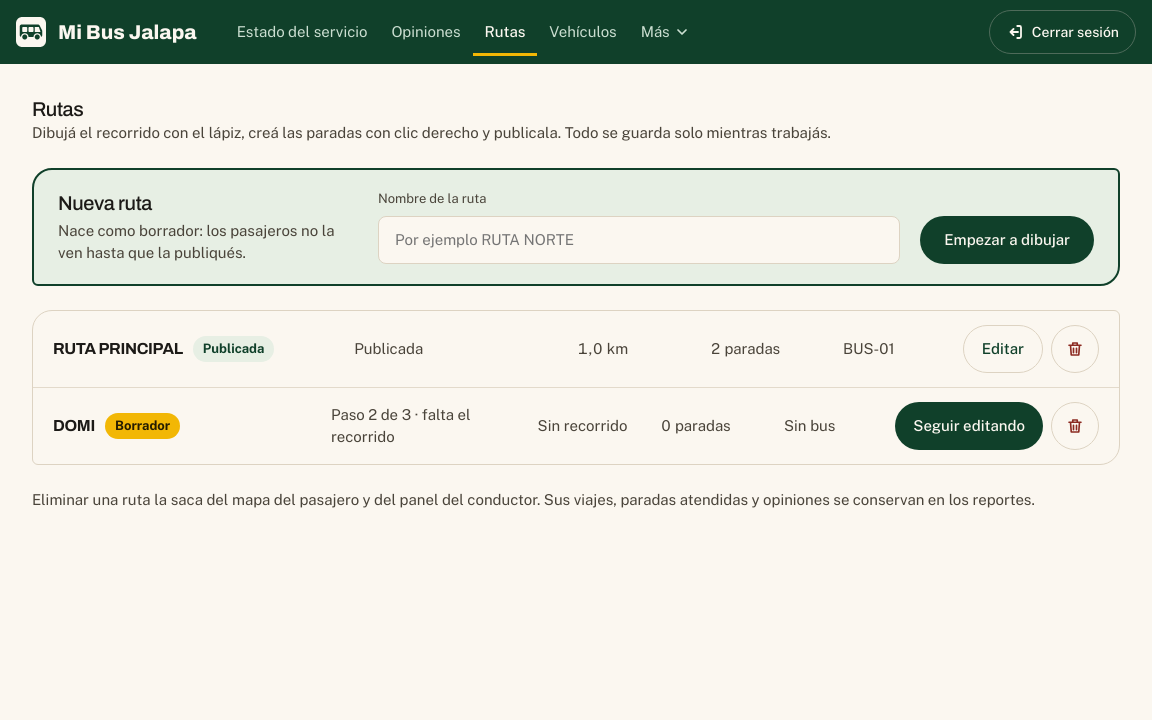
Rutas del panel municipal › eliminar pide escribir el nombre y después la saca de la lista
Click the button named "Eliminar DOMI" at (1075, 426), box [1051,402,1099,450]
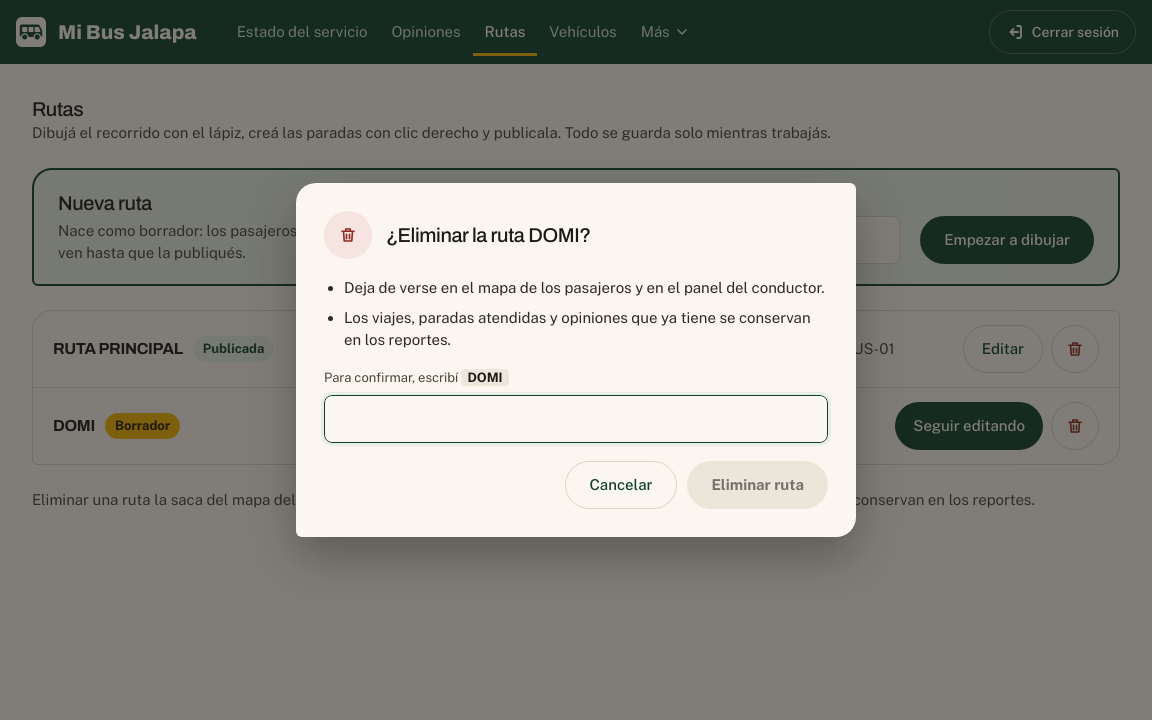
Result: the button "Eliminar ruta" is disabled at [687,461,828,509]
Type "domi" into the field at (576, 419), box [324,395,828,443]
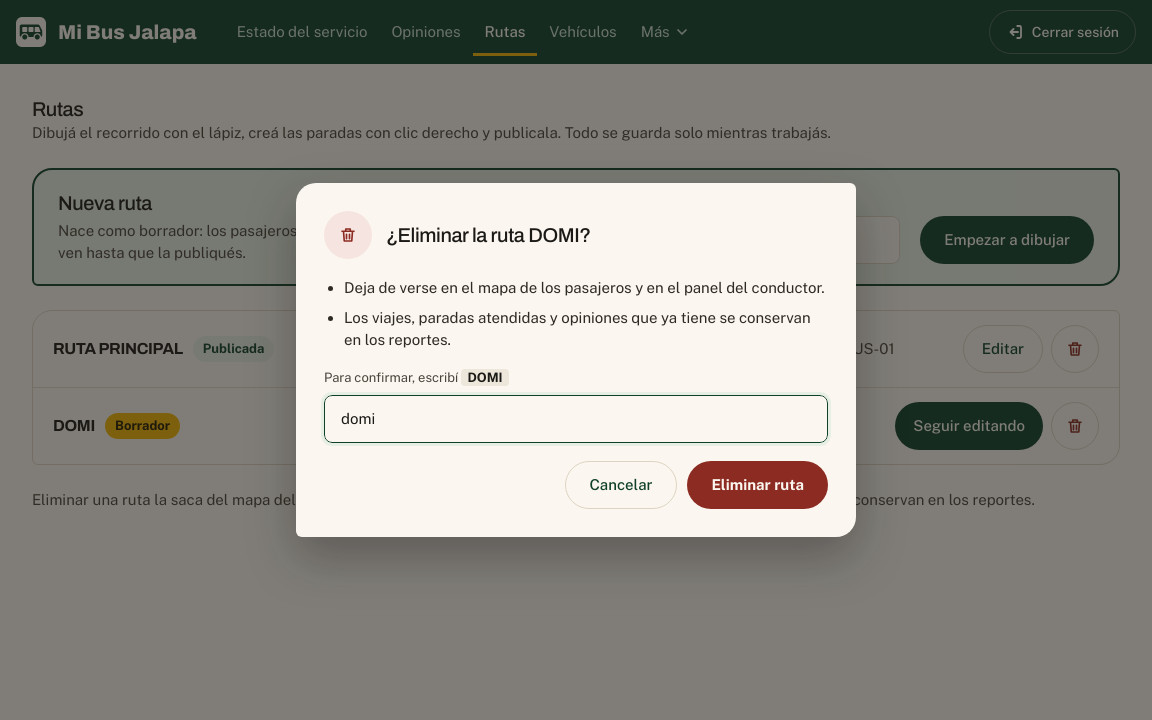
Result: the button "Eliminar ruta" is enabled
Click the button "Eliminar ruta" at (758, 485), box [687,461,828,509]
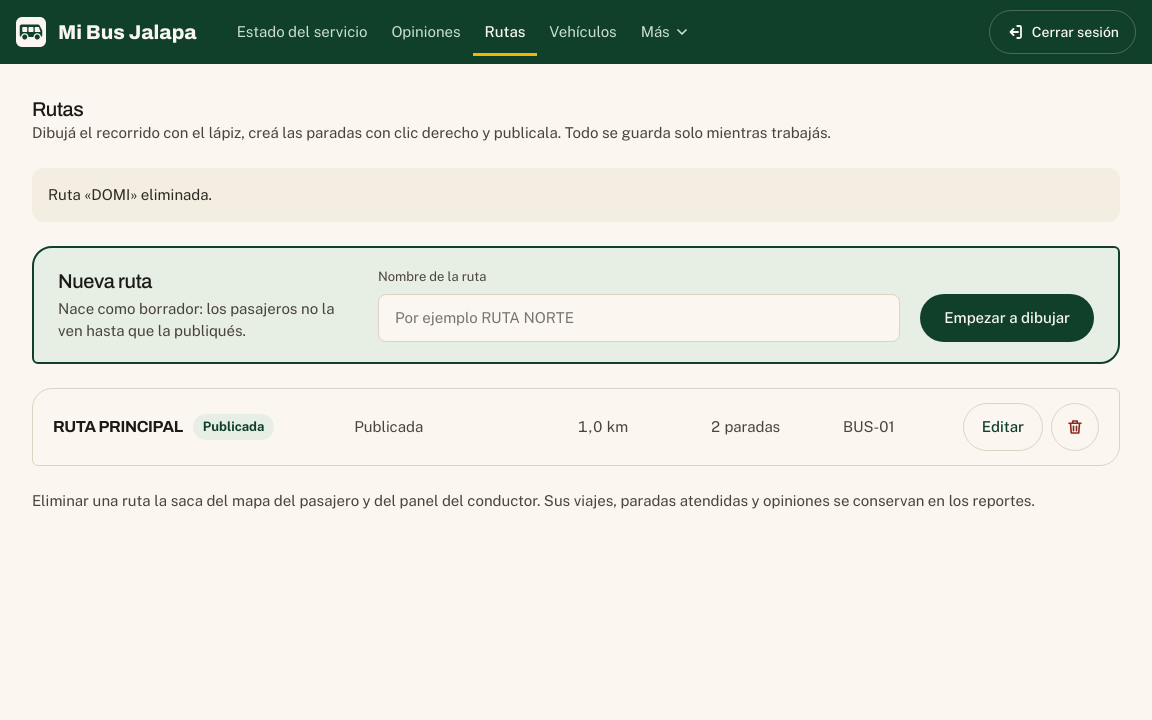
Result: the text "Ruta «DOMI» eliminada." is shown at [32,168,1120,222]
